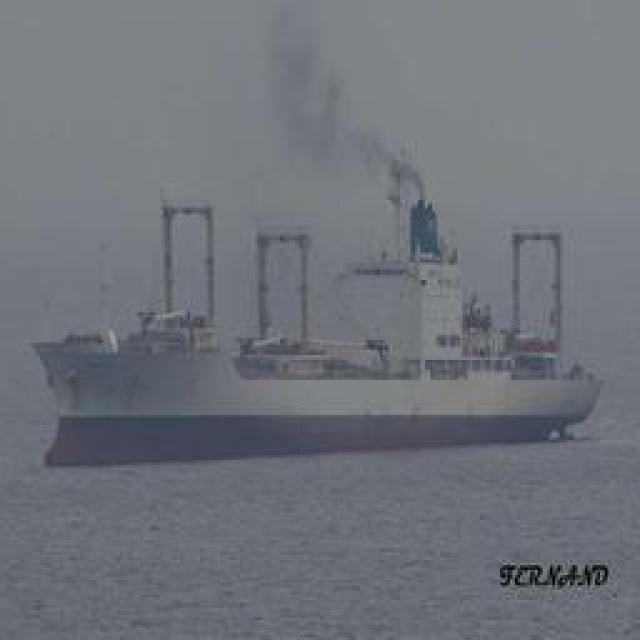Ship: (35, 272, 610, 455)
